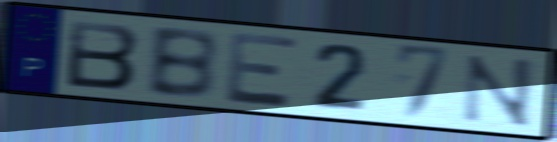2: (309, 41, 369, 114)
7: (391, 43, 451, 125)
B: (64, 17, 143, 92), (143, 27, 221, 102)
E: (224, 29, 302, 110)
N: (458, 52, 537, 130)
